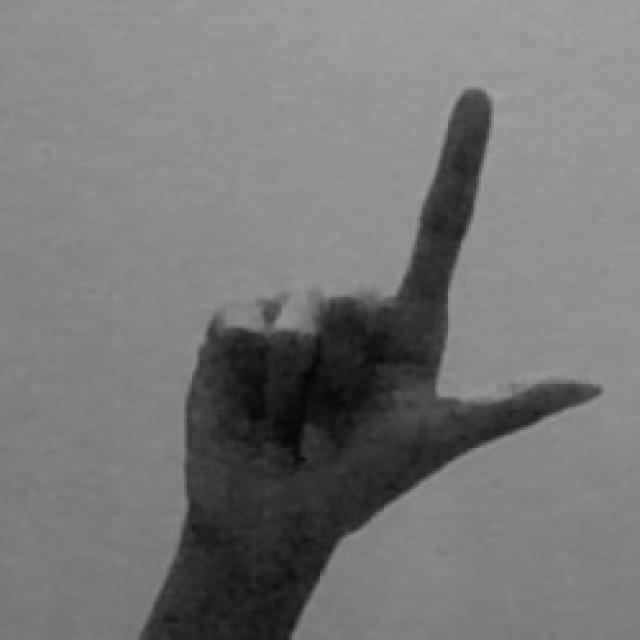L: (135, 78, 605, 640)
